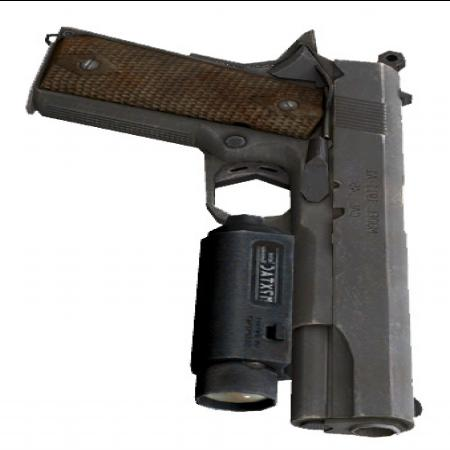Pistol: (29, 26, 433, 436)
